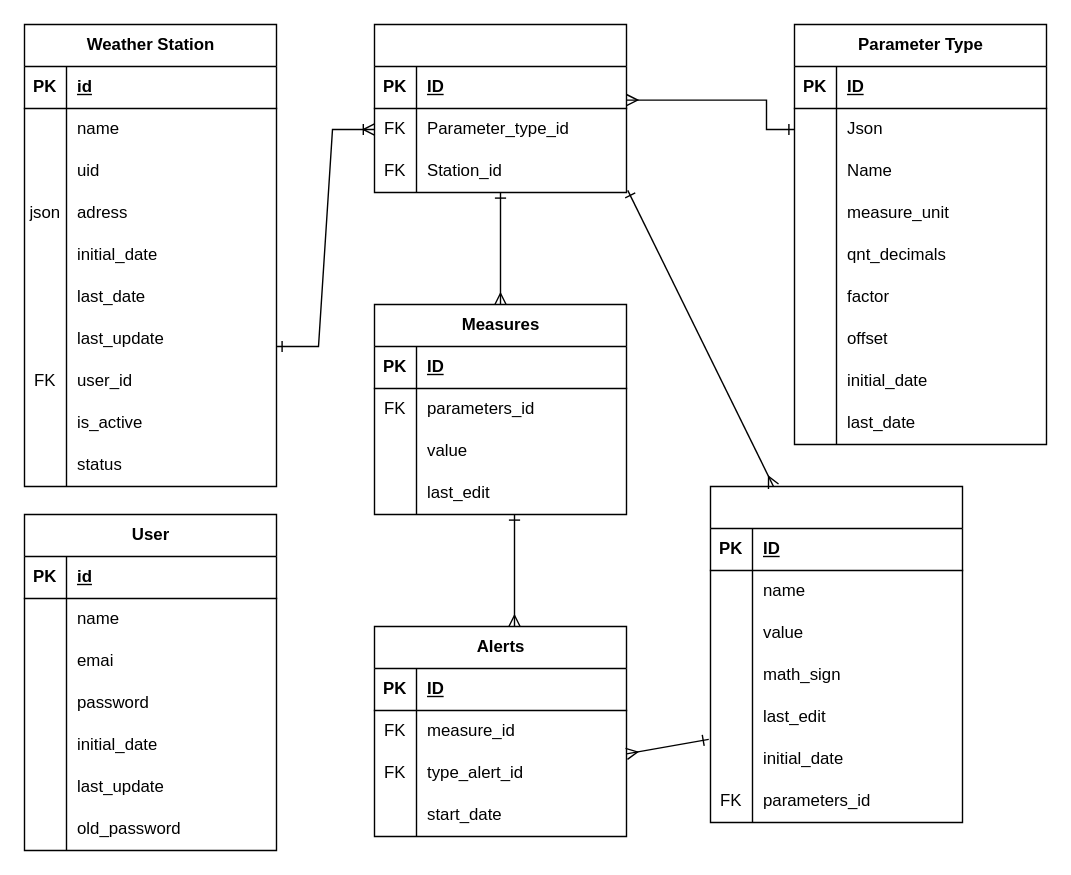
Some shapes in this 1071 by 875 pixel diagram are drawn without their labels. Each missing label, with the box of its shape:
Parameters: (373, 23, 626, 192)
Type Alerts: (709, 485, 962, 822)
